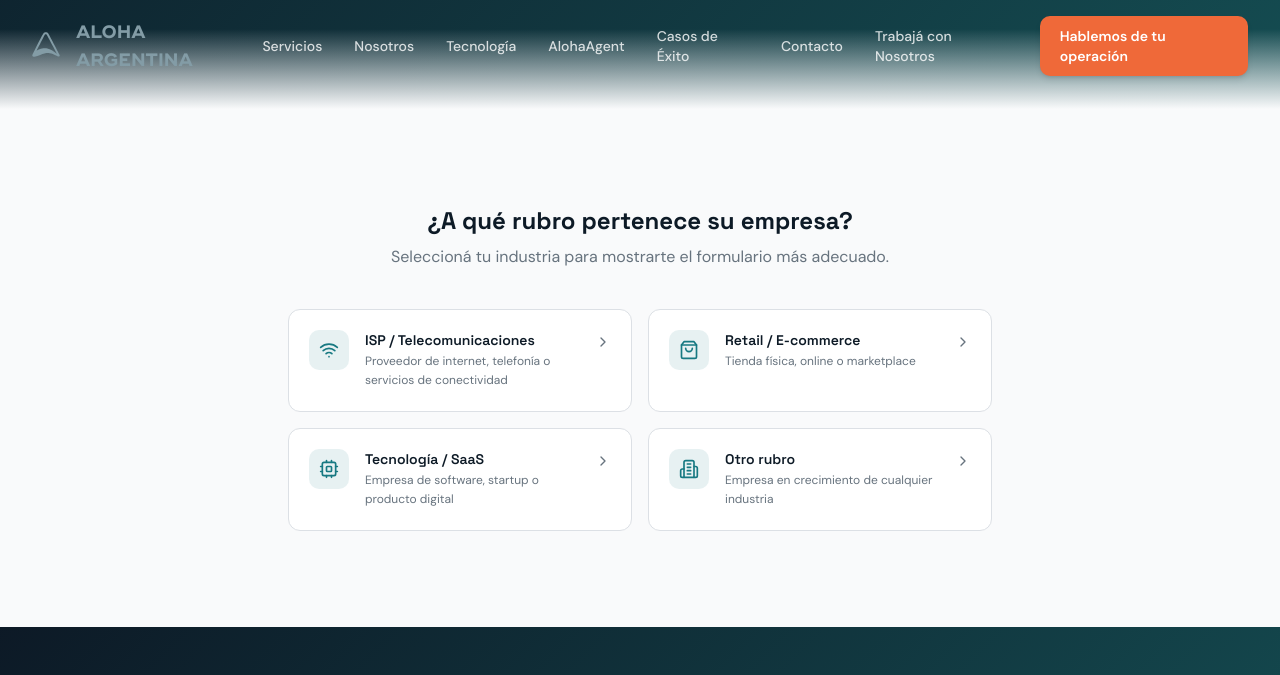
Test: CotizarServicio › no deja avanzar del paso 1 sin los datos de contacto
This screenshot has width=1280, height=675.
(page scrolled)
Click the button "Retail / E-commerce Tienda física, online o marketplace": (820, 360) [648,308,992,412]
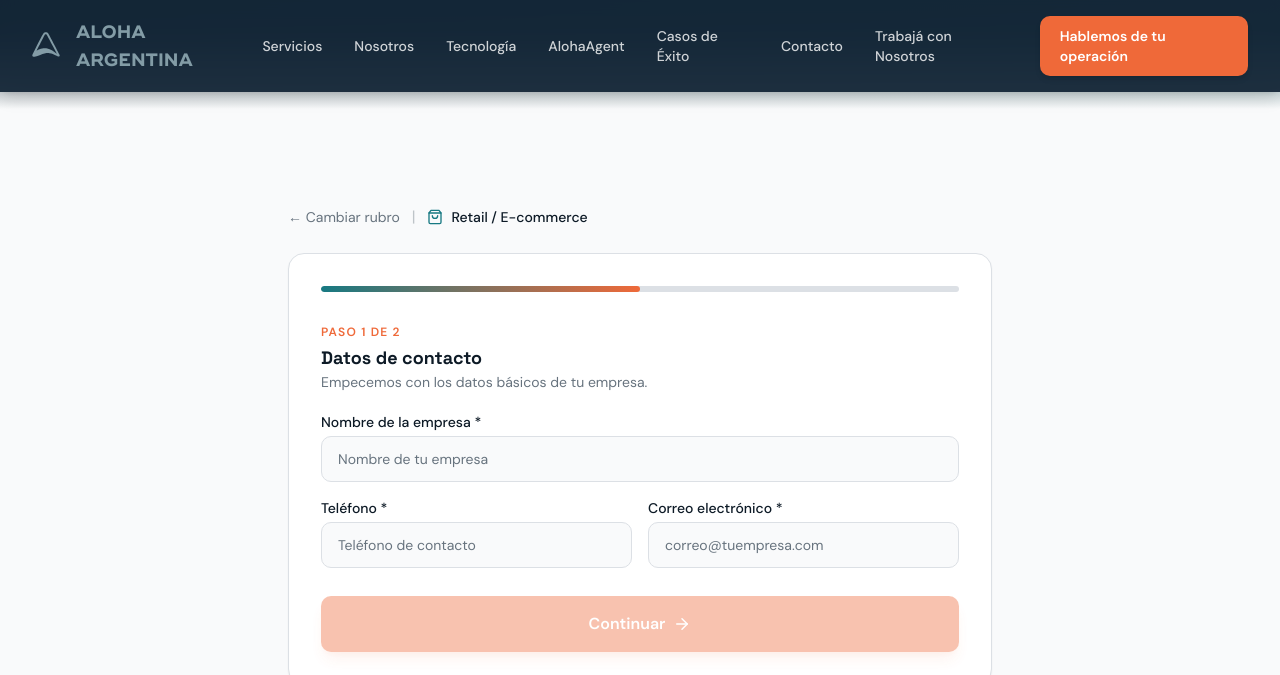
Result: the button "Continuar" is disabled at [321,596,959,652]
In the field with placeholder "Nombre de tu empresa": (640, 458) [321,436,959,482], type "Tienda Sur"
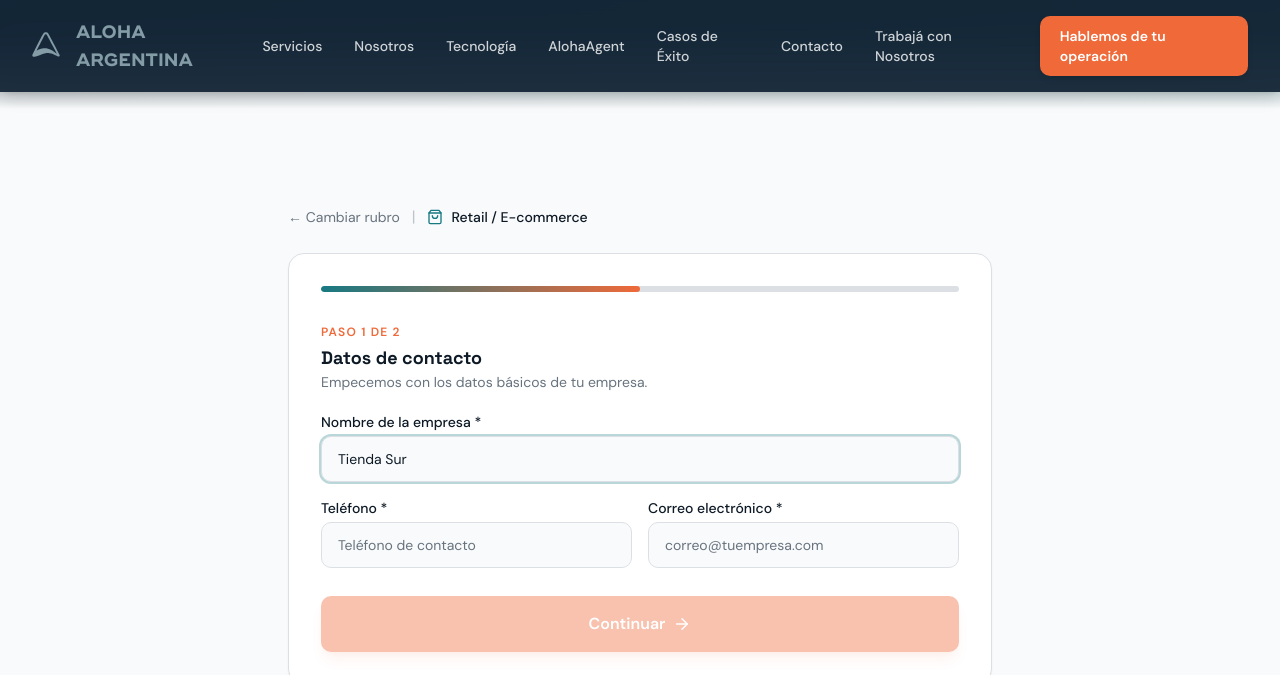
In the field with placeholder "Teléfono de contacto": (476, 544) [321,522,632,568], type "3511234567"
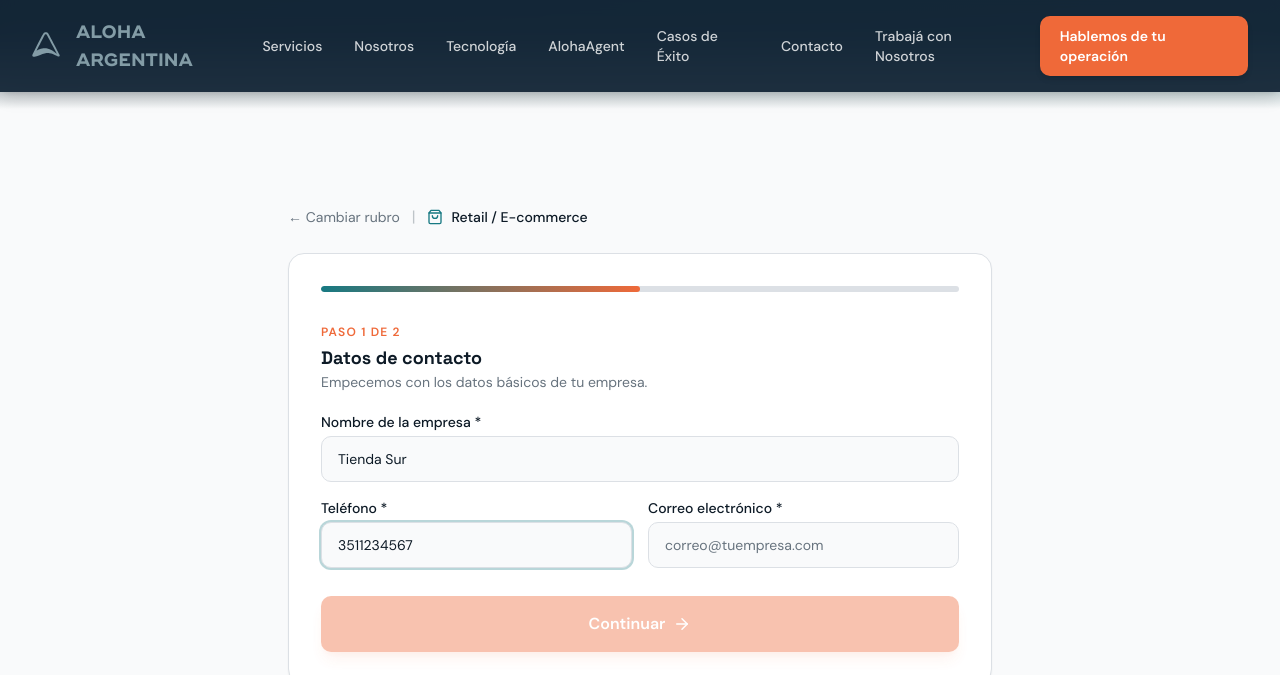
In the field with placeholder "correo@tuempresa.com": (804, 544) [648,522,959,568], type "ana@tiendasur.com"
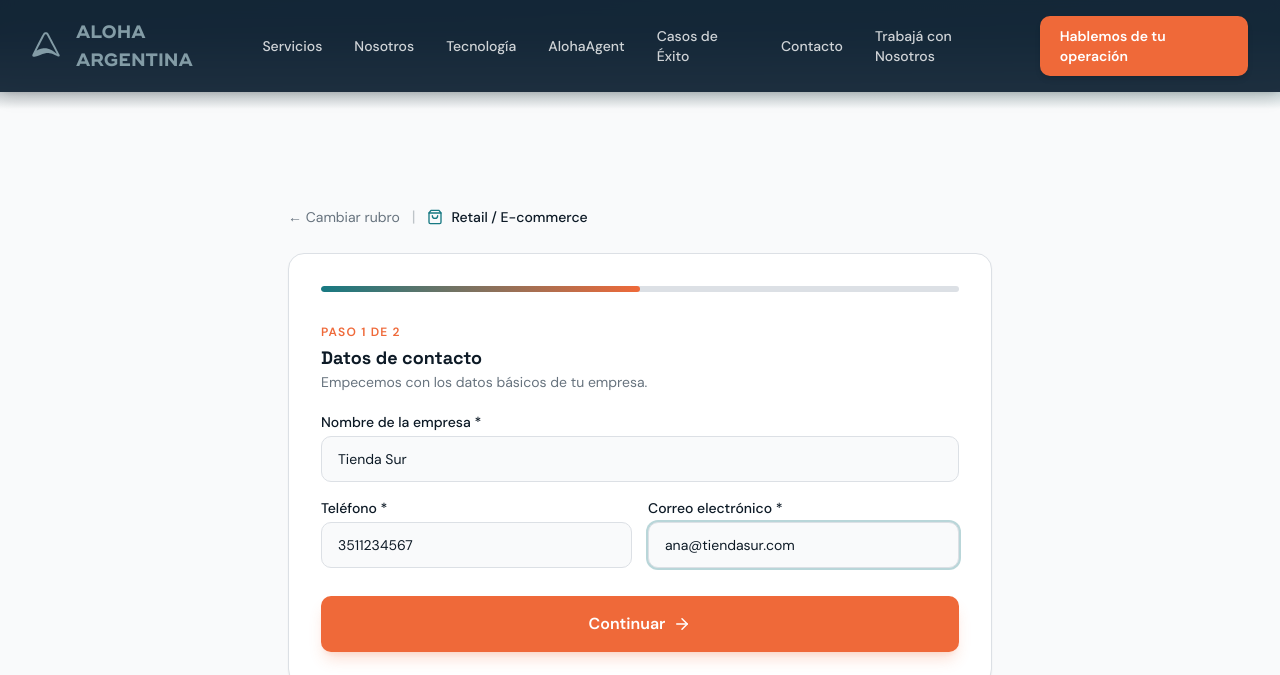
Result: the button "Continuar" is enabled at [321,596,959,652]
